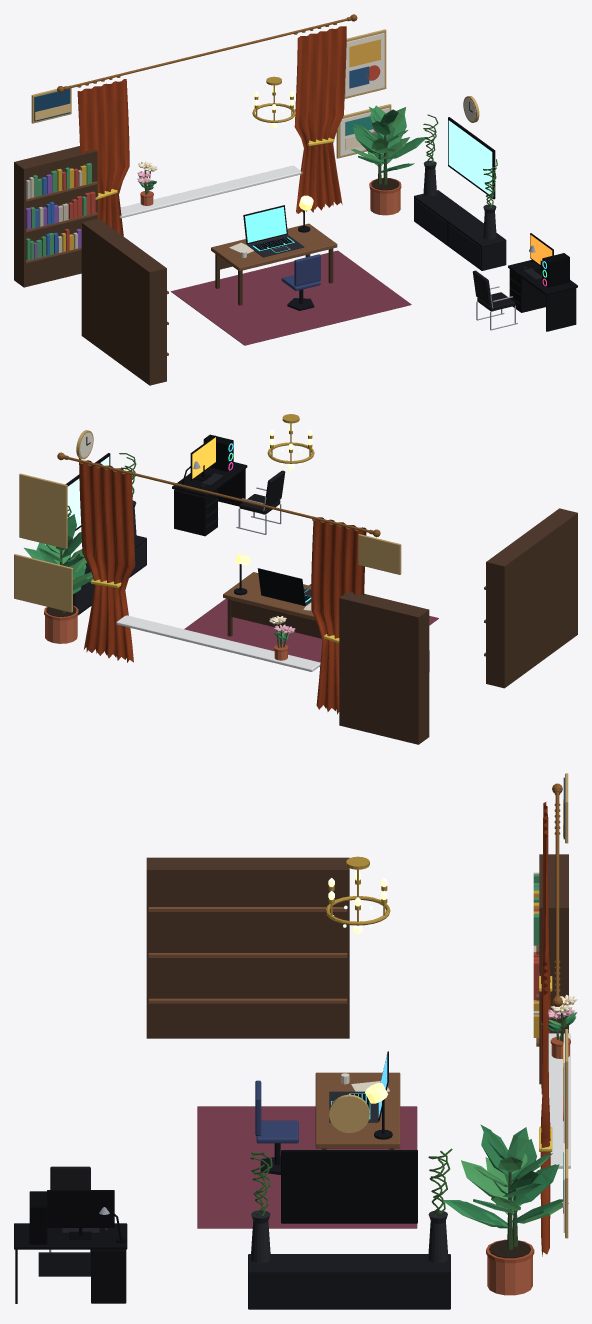
File: room.glb
3 views of the same model, one above another, from view 1: azimuth 30°, elevation 25°; view 2: azimuth 150°, elevation 25°; view 3: azimuth 270°, elevation 25° (orthographic). The views are drawn at different scales.
Visible parts, largest first — view 1: room_props, tv_screen, laptop_screen; view 2: room_props, pc_screen, tv_screen; view 3: room_props.
Part boxes in pixels (x1=…): room_props: x1=14, y1=14, x2=577, y2=385; tv_screen: x1=448, y1=120, x2=492, y2=196; laptop_screen: x1=245, y1=207, x2=286, y2=242; room_props: x1=14, y1=414, x2=577, y2=744; pc_screen: x1=192, y1=437, x2=215, y2=478; tv_screen: x1=67, y1=456, x2=109, y2=528; room_props: x1=14, y1=773, x2=577, y2=1309.
Bounding box in the file's own units: 7.95 × 4 × 6.67.
